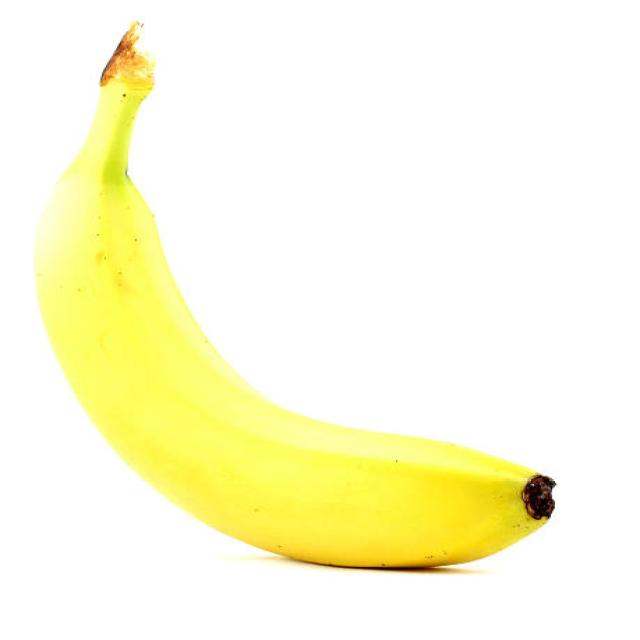banana: (37, 59, 558, 572)
